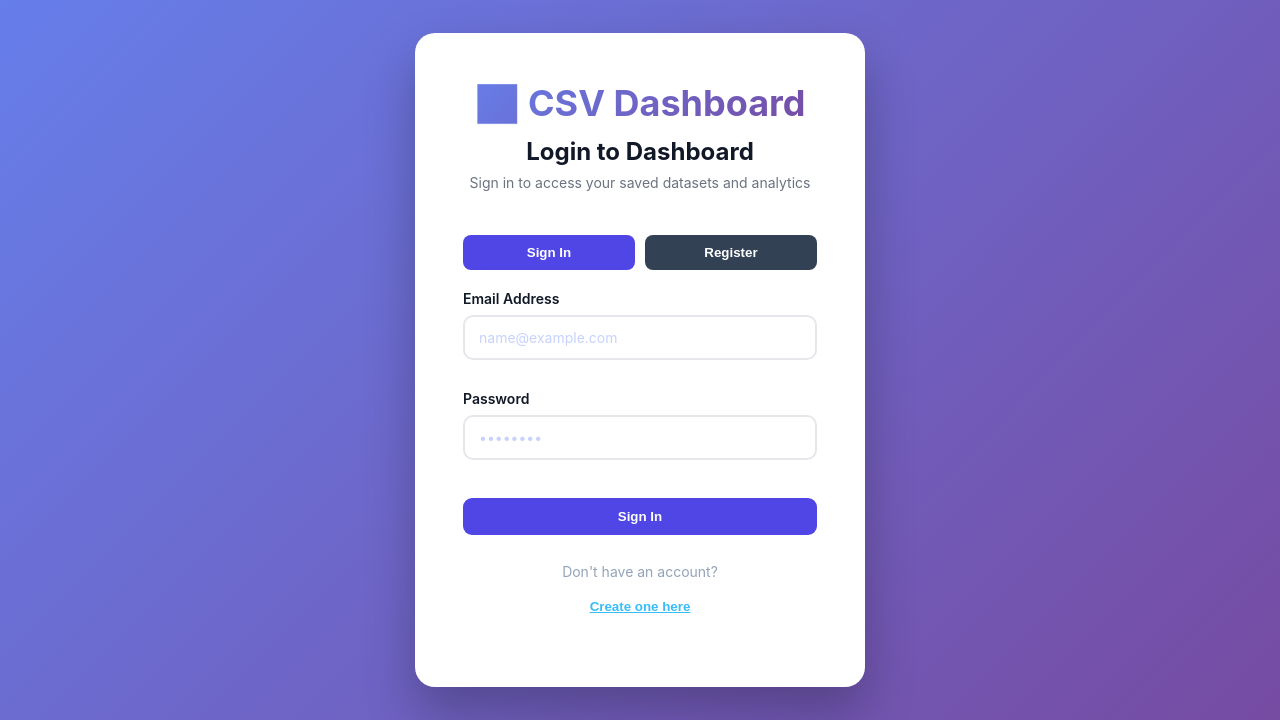
Test: AI Data Analyzer Frontend – Phase 3 Test Suite › Authentication Flow & Error Display › logs in successfully and displays dashboard with user email
Type "successful_user@example.com" into the field labelled "Email Address". click: (640, 338)
box: [463, 315, 817, 360]
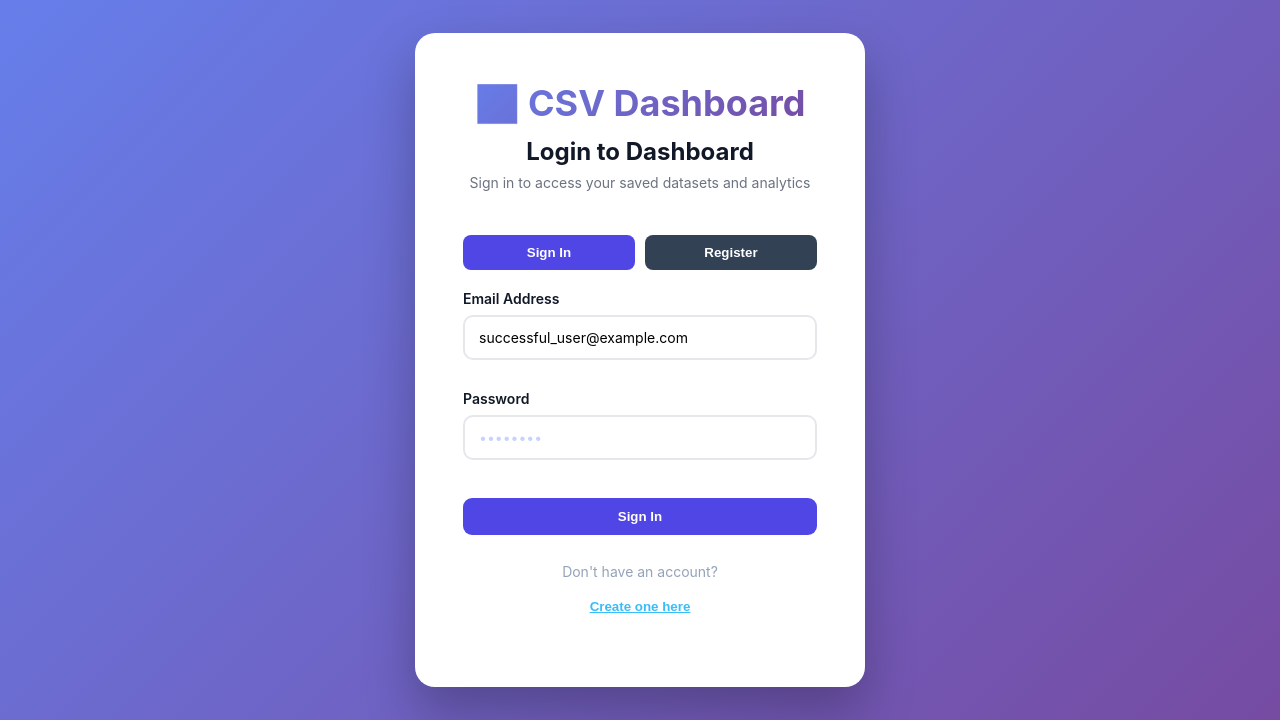
Type "Password123!" into the password field labelled "Password". click: (640, 438)
box: [463, 415, 817, 460]
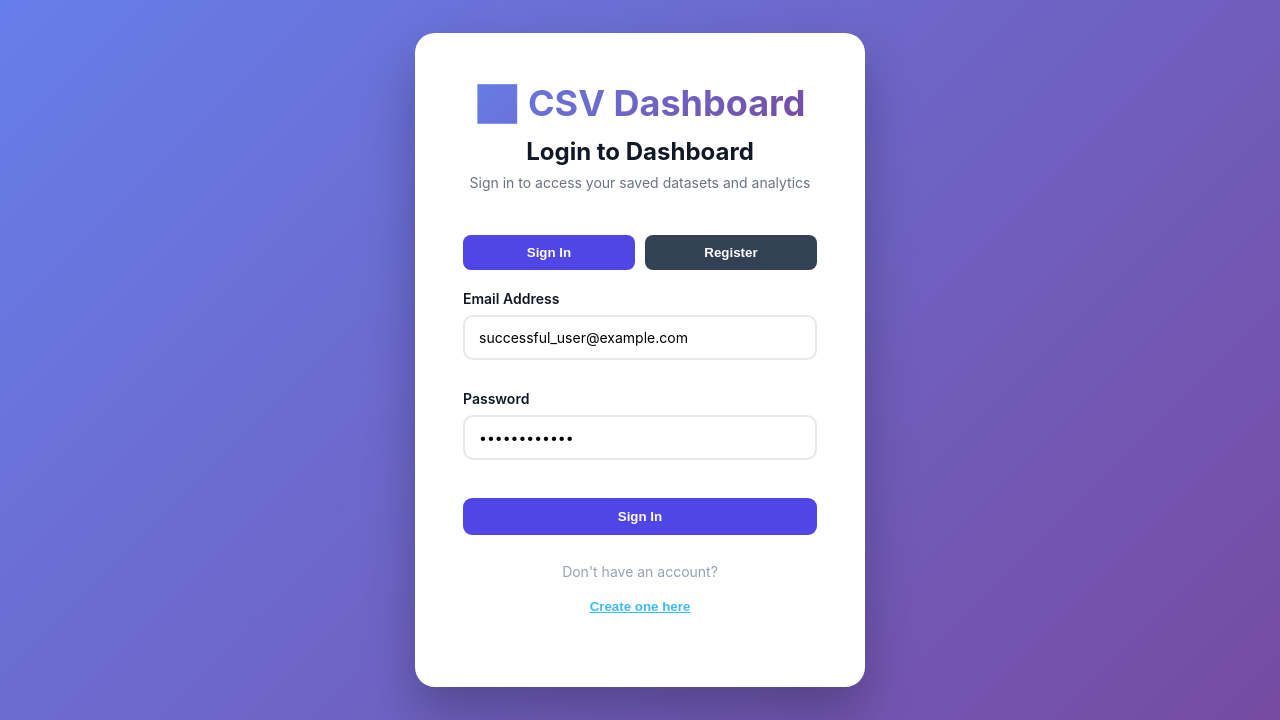
Click the button with test id "auth-submit-btn". click: (640, 516)
box: [463, 498, 817, 535]
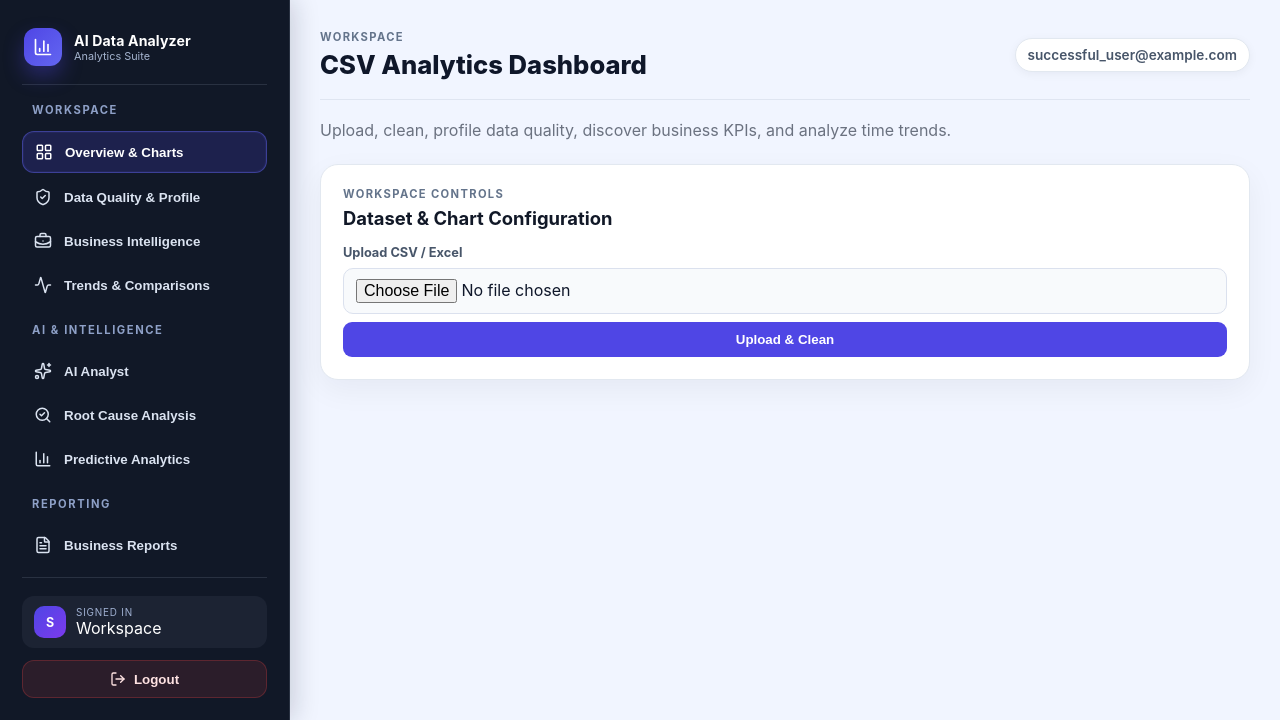
Now the text "successful_user@example.com" is shown, box [1014, 38, 1250, 72]
Now the button "Logout" is shown, box [22, 660, 267, 698]
